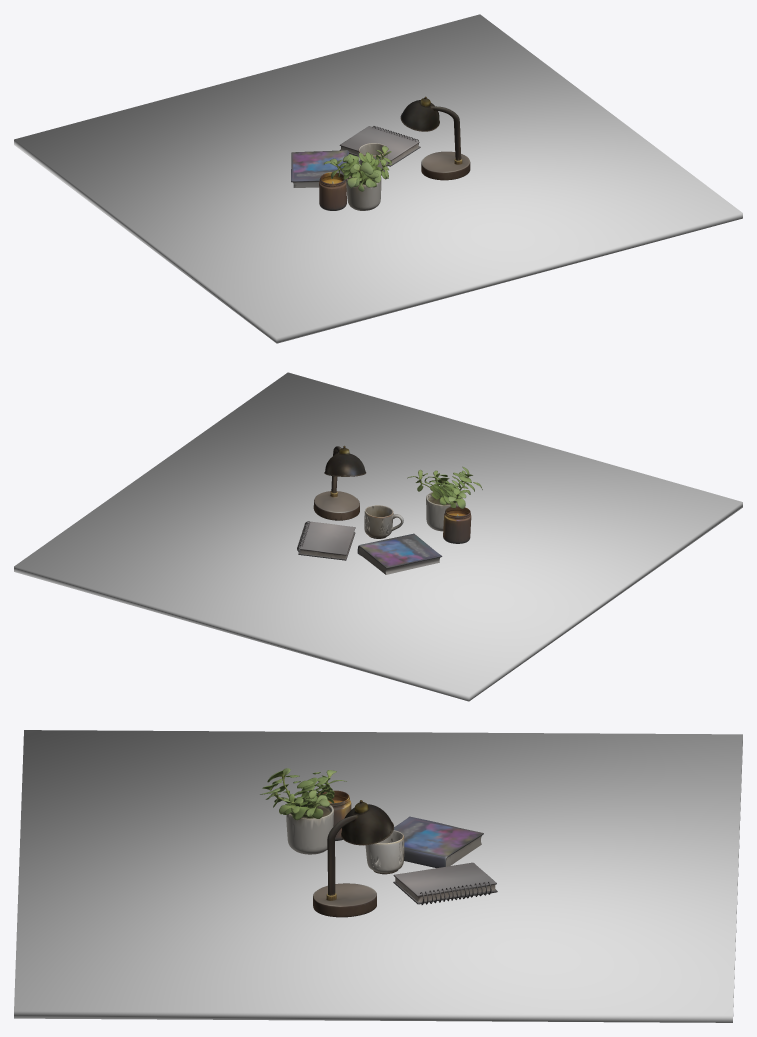
File: rest3d.glb
3 views of the same model, one above another, from view 1: azimuth 30°, elevation 25°; view 2: azimuth 150°, elevation 25°; view 3: azimuth 270°, elevation 25° (orthographic). The views are drawn at different scales.
Visible parts, largest first — view 1: ground, World; view 2: ground, World; view 3: ground, World.
Part boxes in pixels (x1,y1,x2,y2): ground: [14, 14, 742, 343]; World: [291, 96, 470, 210]; ground: [14, 372, 742, 701]; World: [297, 445, 482, 574]; ground: [14, 730, 742, 1022]; World: [260, 768, 497, 917].
Size of the model in its own units: 4.38 by 0.7812 by 4.41.
